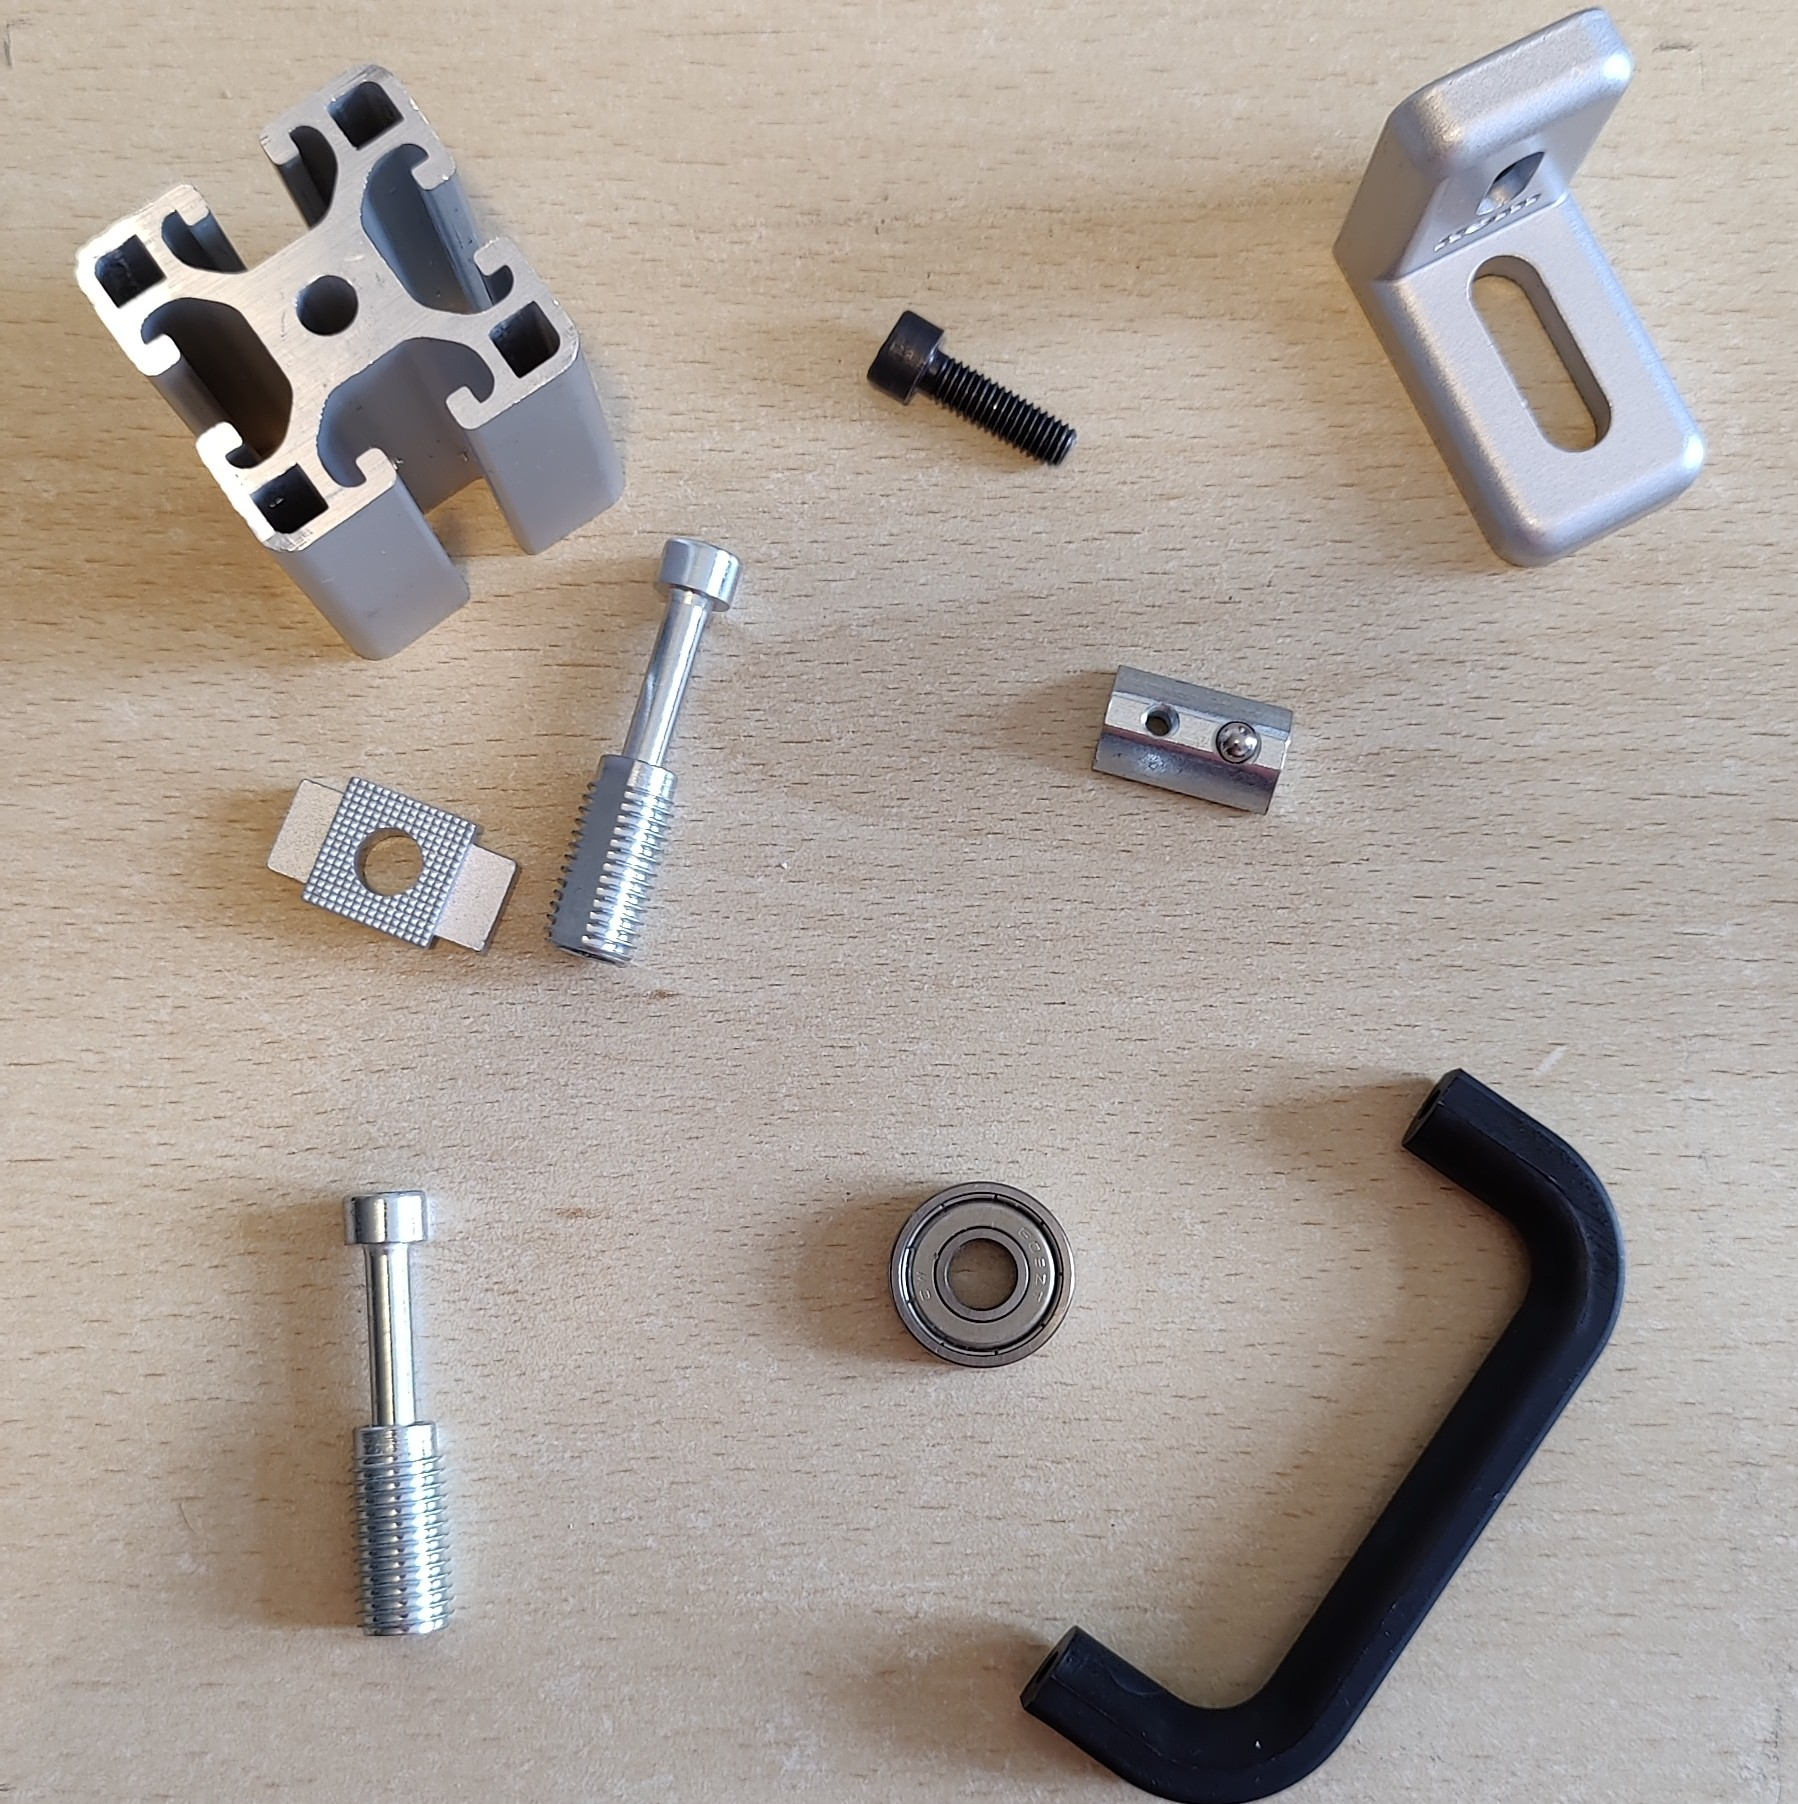Aluminium Extension: (71, 59, 629, 662)
Ball Bearing: (887, 1179, 1074, 1369)
Multiwinkel: (1329, 7, 1707, 571)
Pull Handle: (1018, 1067, 1628, 1804)
Shoulder Socket Head Cap Screw: (542, 533, 744, 966), (341, 1188, 456, 1639)
Socket Head Cap Screw: (864, 308, 1078, 471)
T Nut Square: (262, 770, 525, 956)
T Spring Nut: (1087, 662, 1297, 818)
